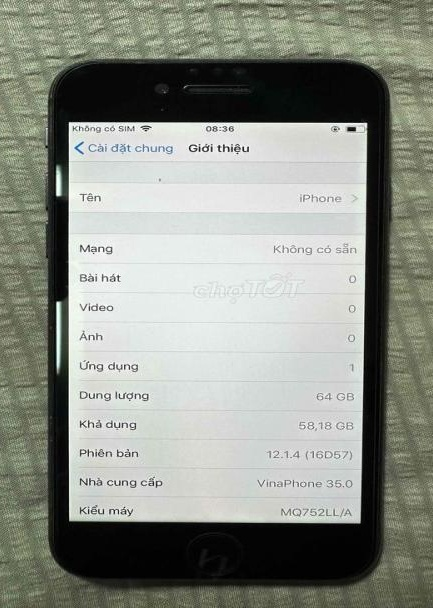screen_defect: (45, 290, 70, 380), (42, 158, 67, 195)
